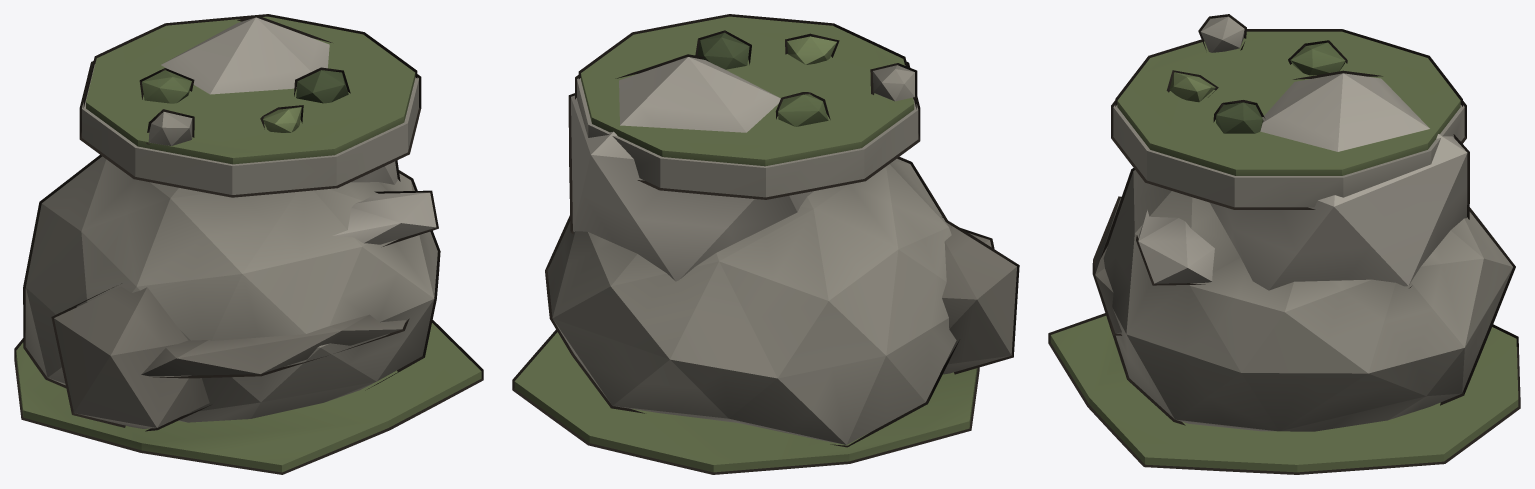
File: falaise.glb
3 renders of one model, left to right at view 1: azimuth 30°, elevation 25°; view 2: azimuth 150°, elevation 25°; view 3: azimuth 270°, elevation 25°, orthographic.
Visible parts, largest first — view 1: falaise, falaise_outline; view 2: falaise, falaise_outline; view 3: falaise, falaise_outline.
Boxes of the visible parts, x1,y1,x2,y2 form: falaise: (16, 16, 481, 472); falaise_outline: (14, 14, 483, 474); falaise: (514, 16, 1016, 472); falaise_outline: (512, 14, 1019, 474); falaise: (1050, 16, 1518, 472); falaise_outline: (1048, 14, 1520, 474).
Size of the model in its own units: 2.32 by 2 by 2.31.
